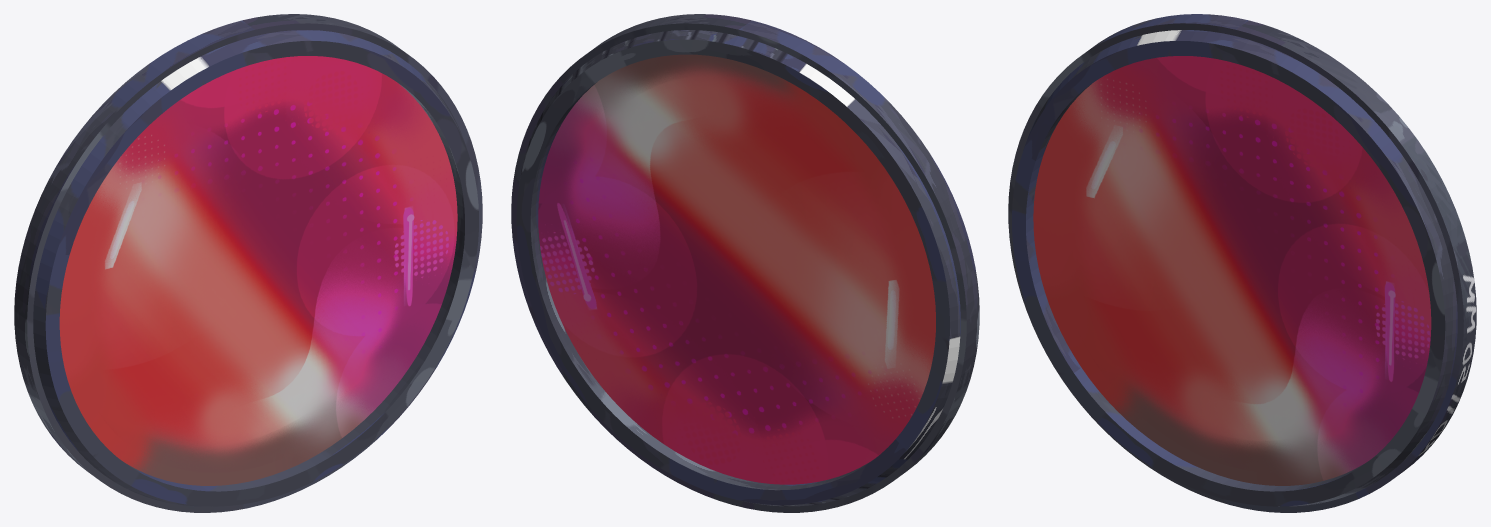
File: Red Lense.glb
3 renders of one model, left to right at view 1: azimuth 30°, elevation 25°; view 2: azimuth 150°, elevation 25°; view 3: azimuth 330°, elevation 25°, orthographic.
Parts seen in each view (by area): view 1: Cylinder; view 2: Cylinder; view 3: Cylinder.
Boxes of the visible parts, x1=… form: Cylinder: x1=14, y1=14, x2=482, y2=512; Cylinder: x1=511, y1=14, x2=979, y2=512; Cylinder: x1=1008, y1=14, x2=1476, y2=512.
Size of the model in its own units: 2.1 by 2.1 by 0.2081.
1 material, 1 textured.
